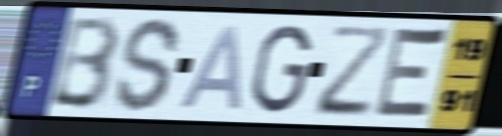A: (176, 23, 245, 113)
B: (46, 14, 123, 113)
E: (370, 22, 453, 125)
G: (248, 22, 315, 116)
S: (112, 15, 185, 115)
Z: (313, 24, 393, 120)
